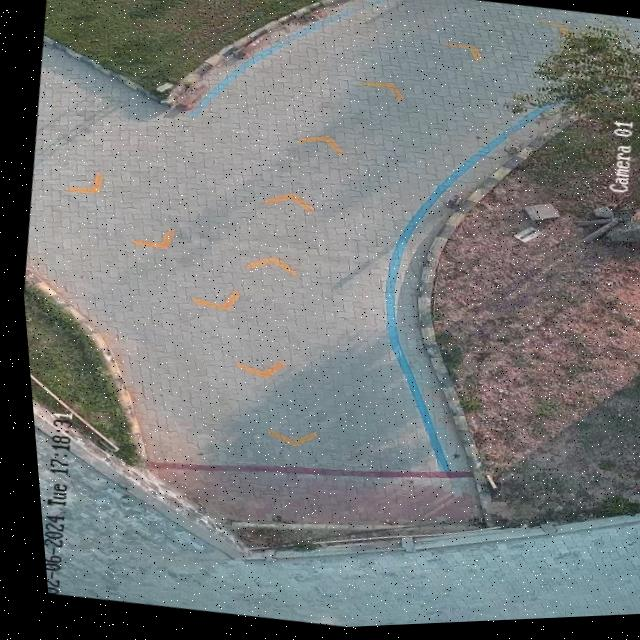No Car: (19, 0, 640, 630)
